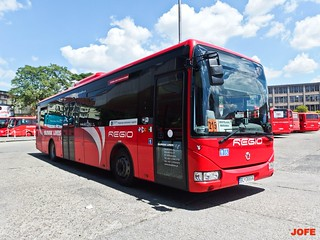bus: (35, 38, 275, 194), (1, 115, 37, 137)
